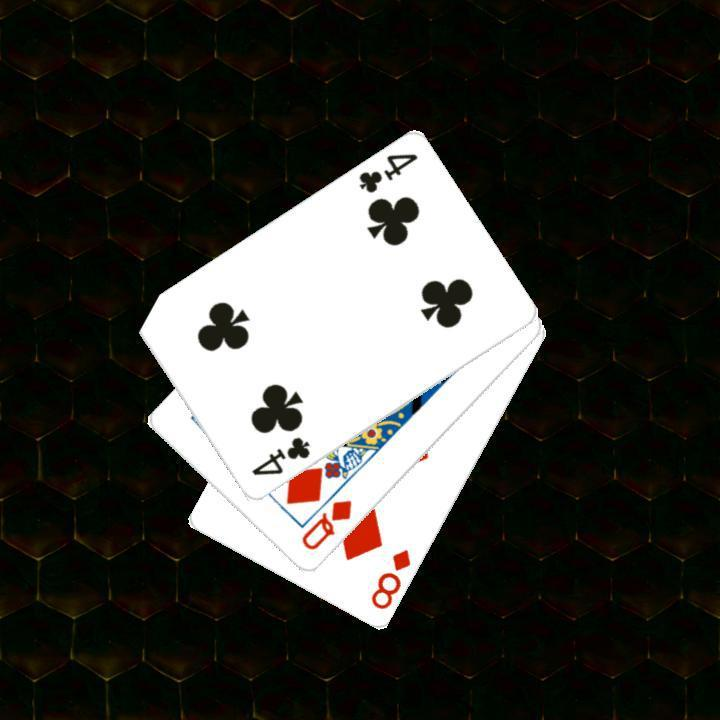4: (354, 149, 420, 196), (247, 433, 312, 479)
8: (366, 545, 413, 612)
Q: (297, 496, 354, 553)
